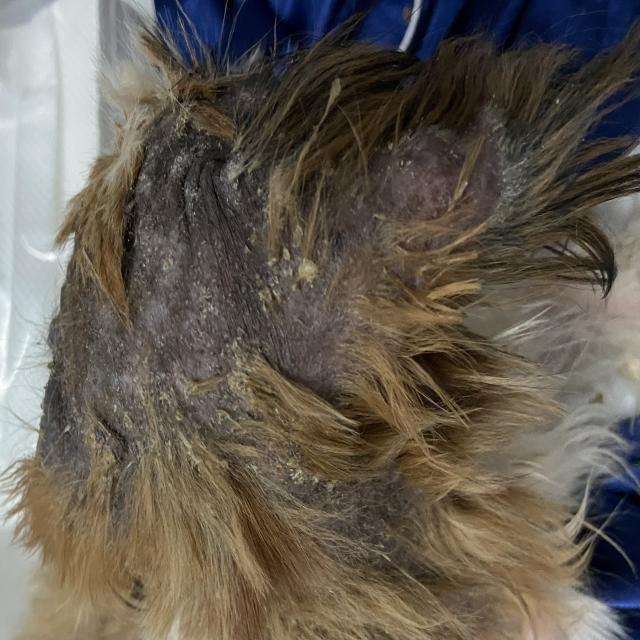demodicosis: (133, 177, 321, 388), (56, 320, 121, 452)
